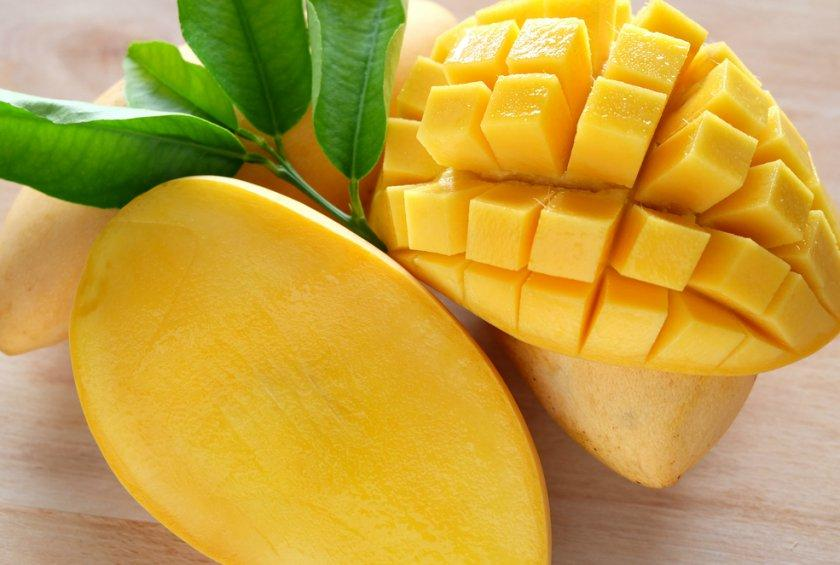mango: (63, 170, 557, 565), (355, 0, 840, 375)
